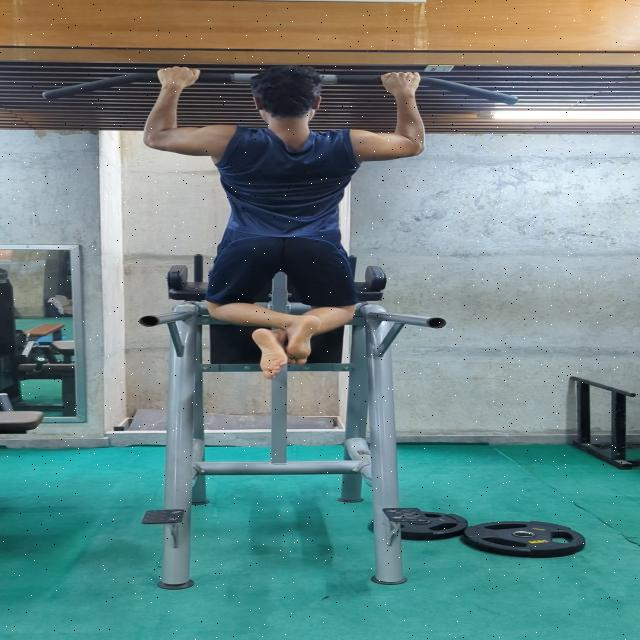Normal_PullUps: (142, 64, 430, 383)
